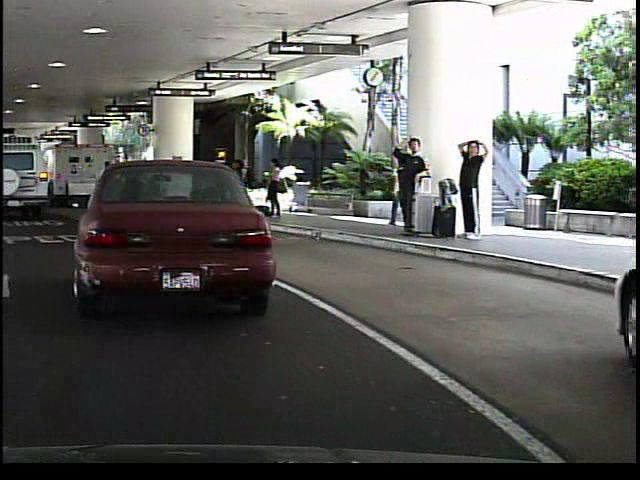person: (390, 134, 429, 238), (451, 132, 488, 239), (261, 159, 286, 223), (386, 154, 407, 228)
